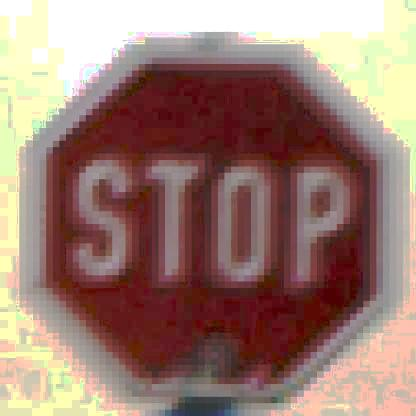Stop Sign: (29, 40, 403, 399)
